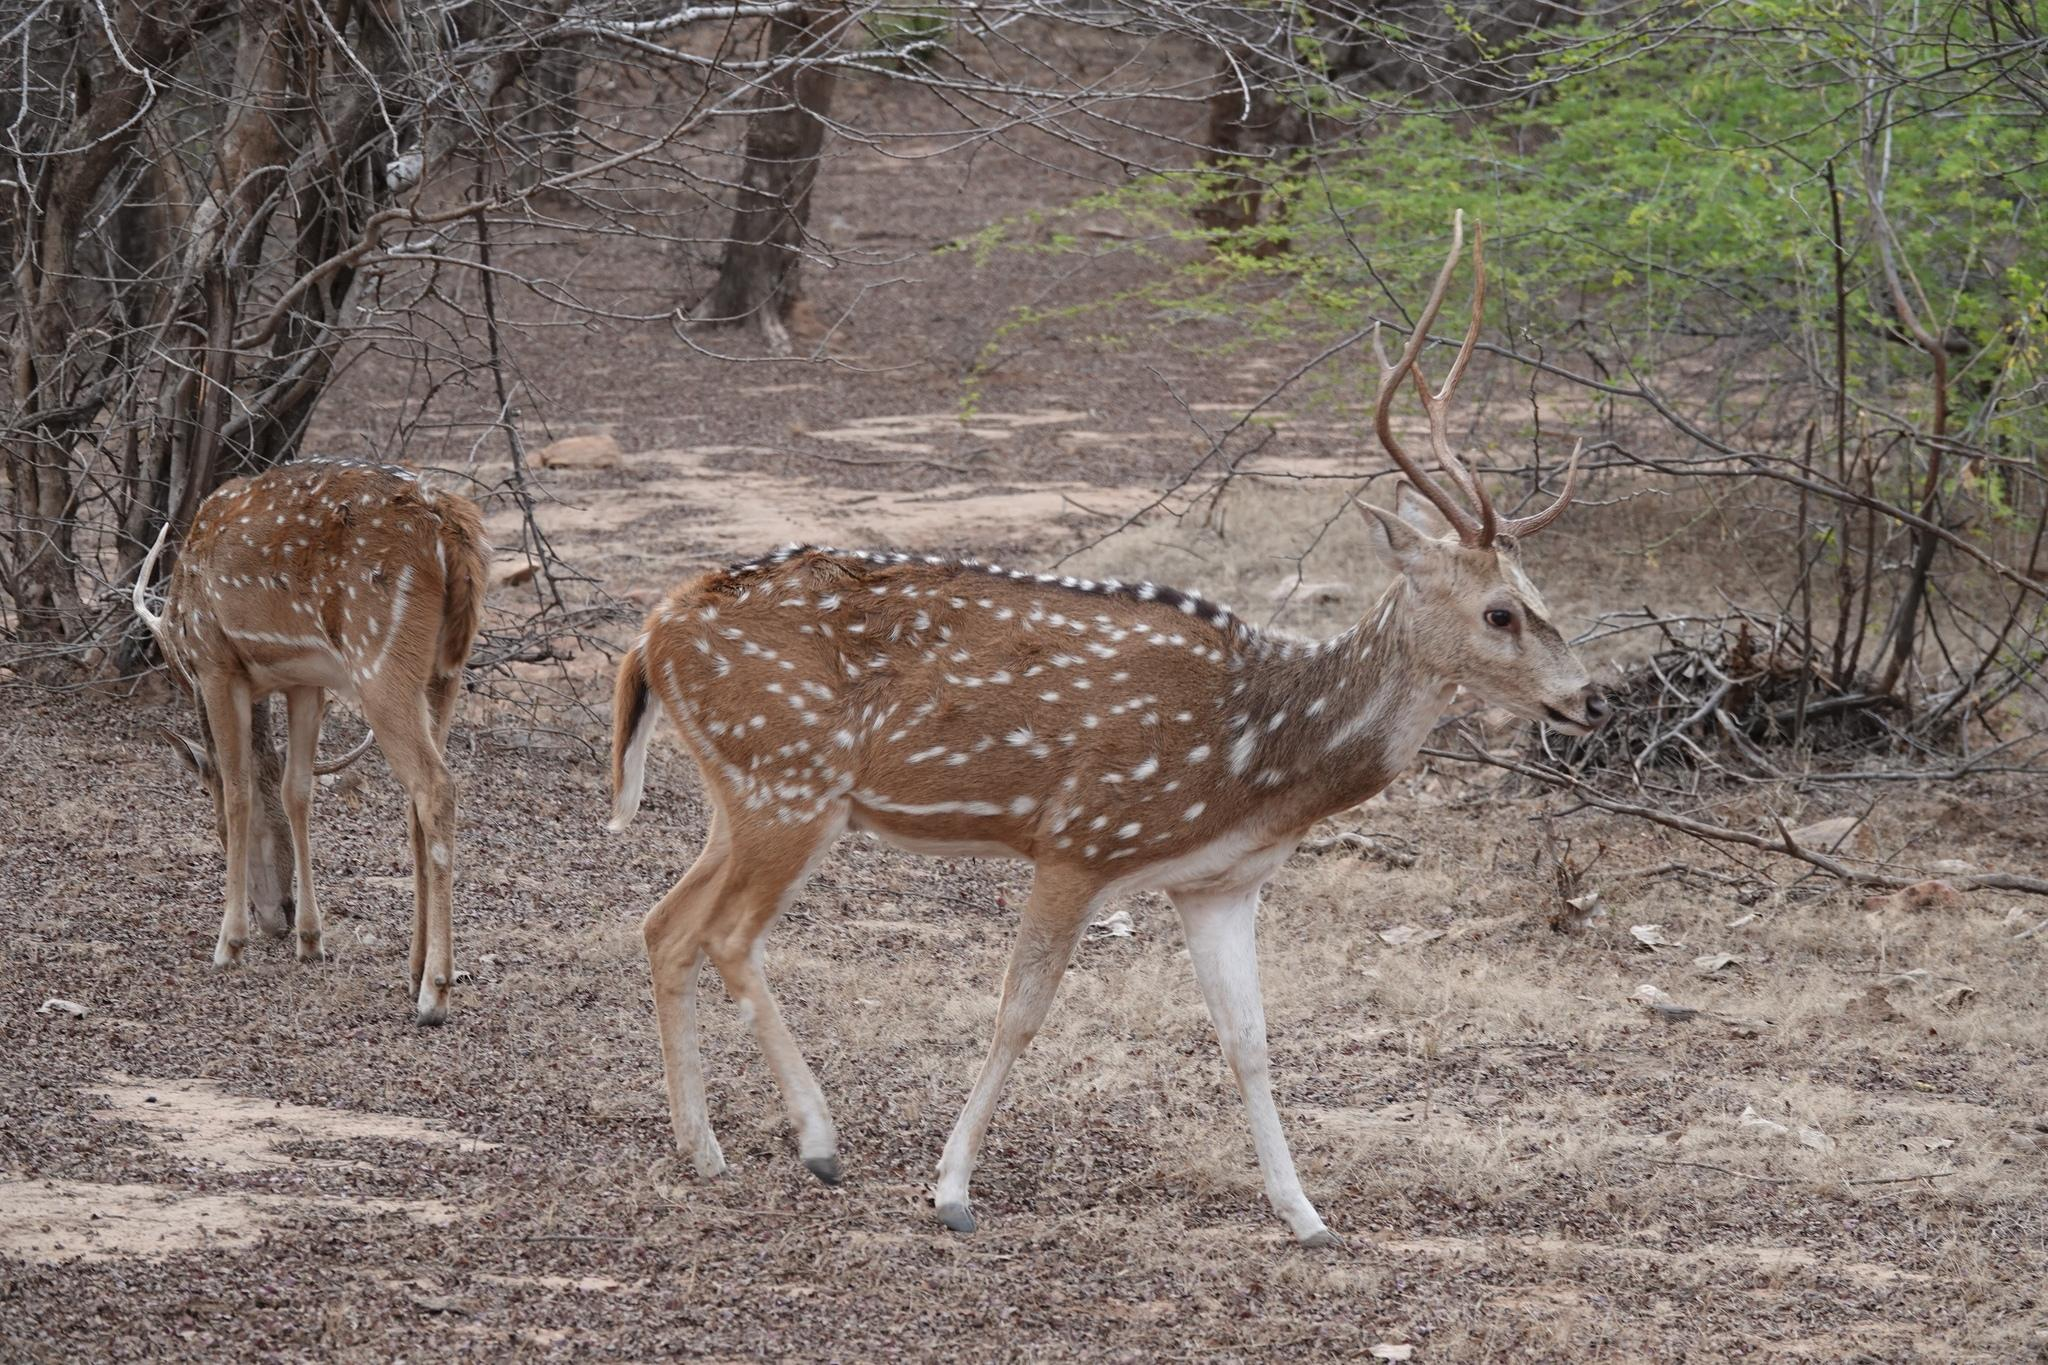Deer: (611, 248, 1600, 1245), (134, 459, 490, 1024)
